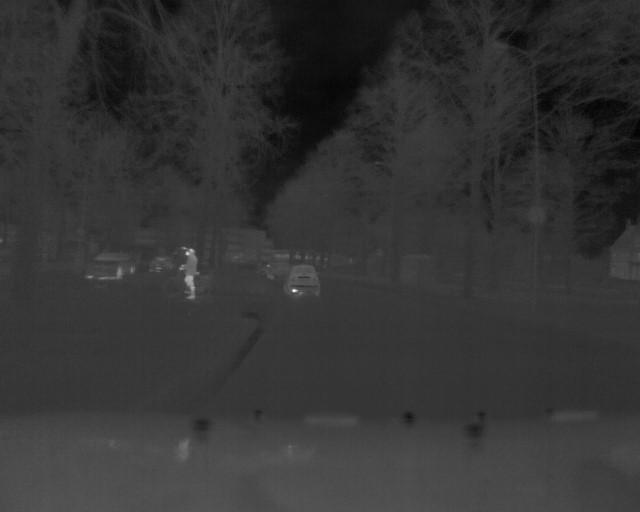car: (284, 262, 323, 301), (86, 253, 137, 282), (147, 251, 172, 274)
person: (179, 245, 196, 298)
